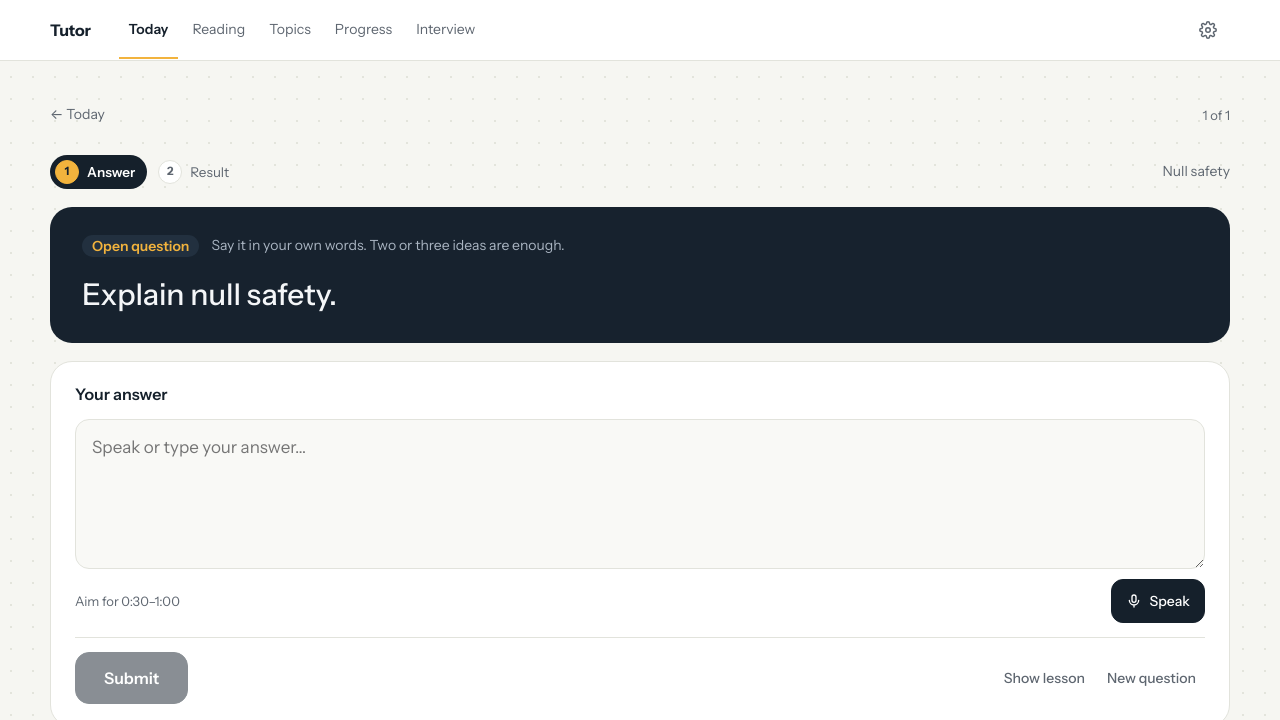
Test: failed open answer offers continue and appeal
Type "x" into the text box at (640, 494), box [75,419,1205,569]
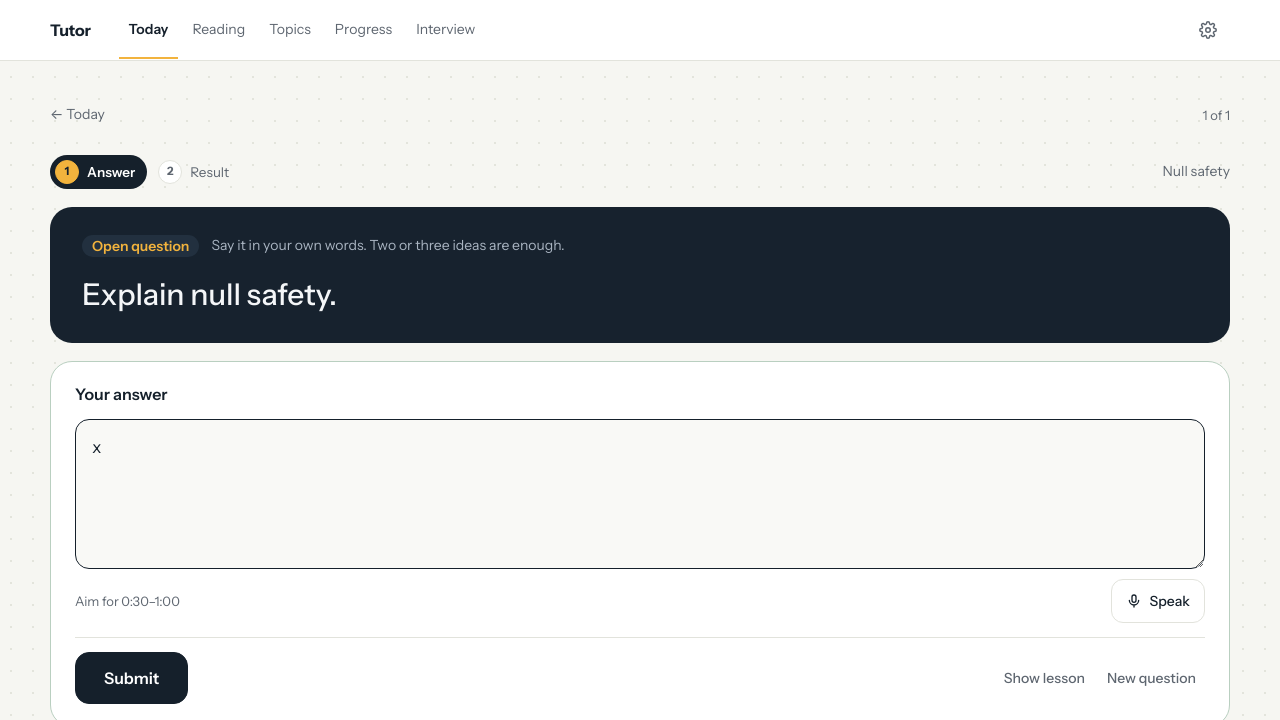
Click the button "Submit" at (132, 678), box [75,652,188,704]
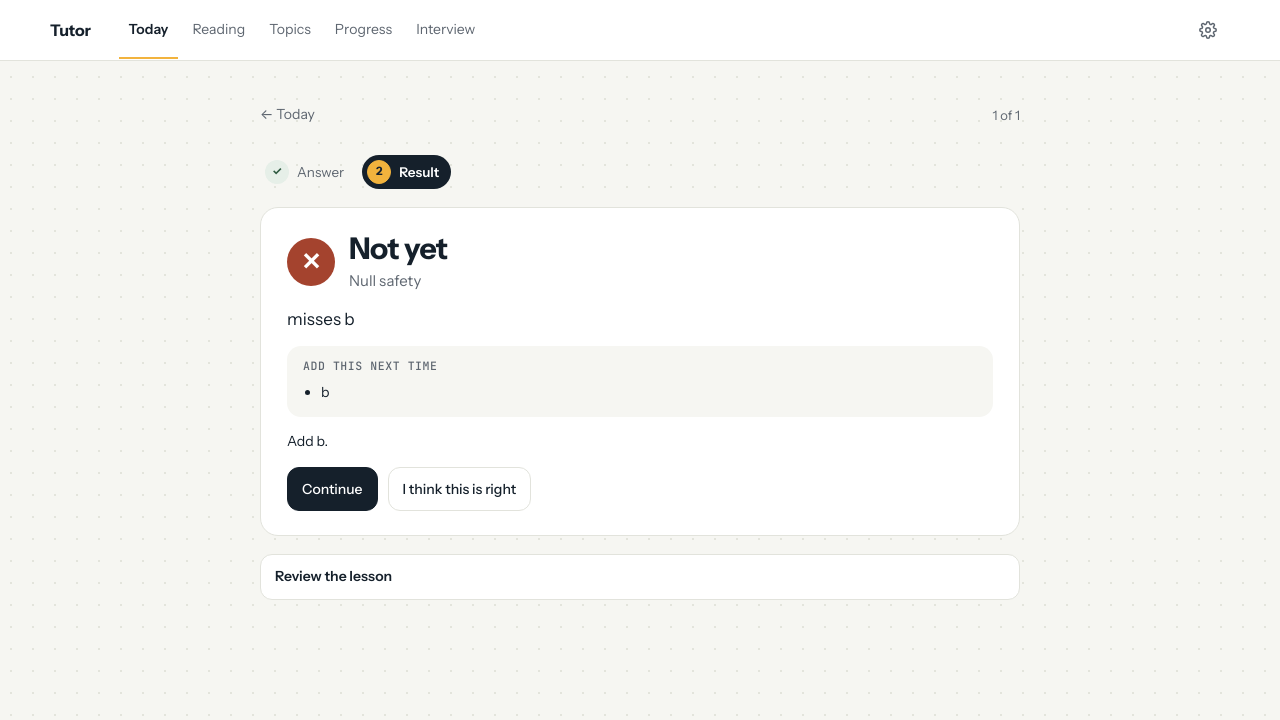
Check: the heading "Not yet" is shown, box [349,230,448,267]
Check: the list item "b" is shown, box [321,383,330,401]
Check: the button "Continue" is shown, box [287,467,378,511]
Click the button "I think this is right" at (459, 489), box [388,467,531,511]
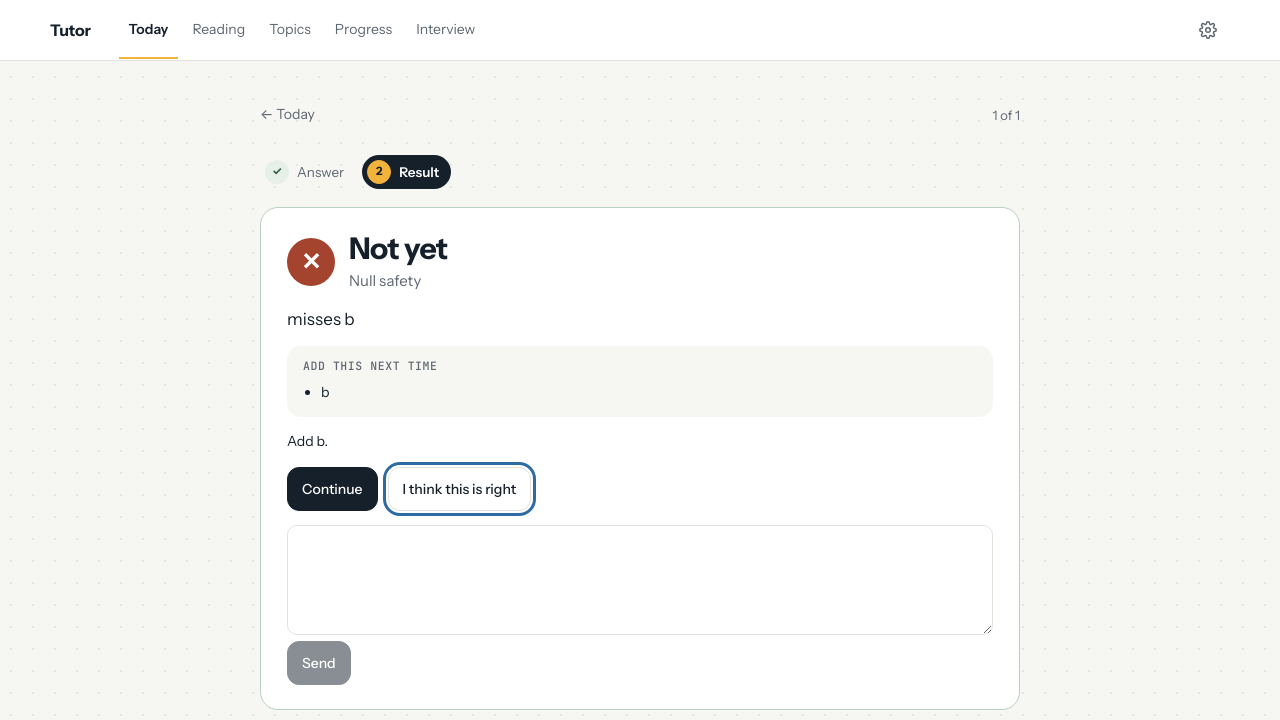
Type "I said b" into the text box named "Why your answer is right" at (640, 580), box [287,525,993,635]
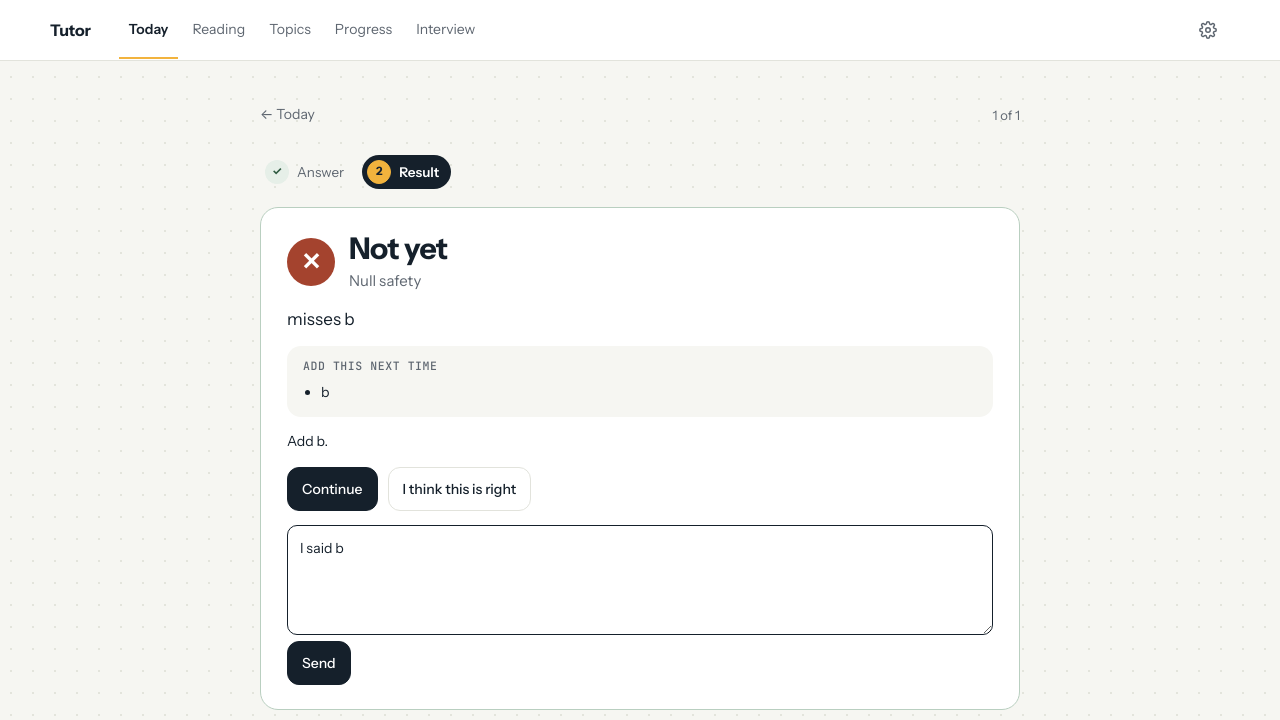
Click the button "Send" at (319, 663), box [287,641,351,685]
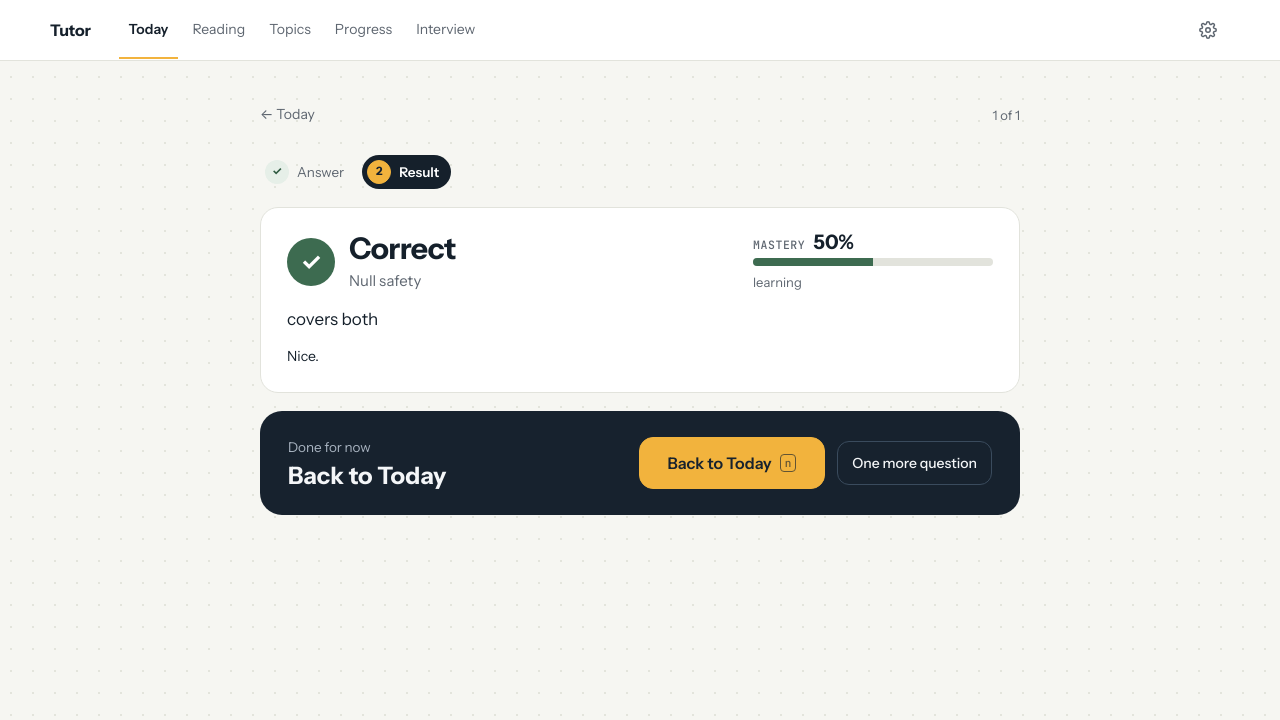
Check: the heading "Correct" is shown, box [349,230,456,267]
